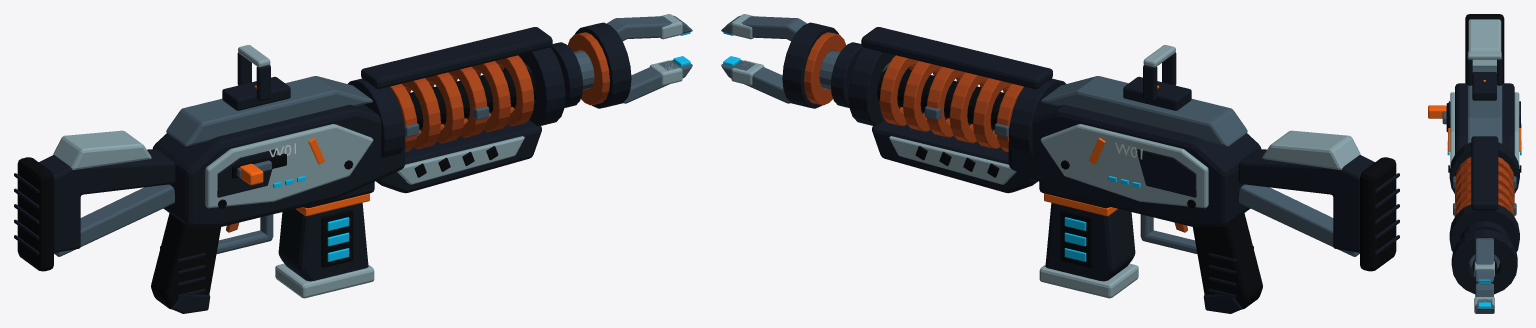
Rendered from W01_arc_rifle_redesign.fbx.
3 renders of one model, left to right at view 1: azimuth 30°, elevation 25°; view 2: azimuth 150°, elevation 25°; view 3: azimuth 270°, elevation 25°, orthographic. The views are drawn at different scales.
Visible parts, largest first — view 1: W01_mesh_body, W01_mesh_coil, W01_mesh_mag, W01_mesh_prongU, W01_mesh_prongD, W01_mesh_bolt; view 2: W01_mesh_body, W01_mesh_coil, W01_mesh_mag, W01_mesh_prongU, W01_mesh_prongD; view 3: W01_mesh_body, W01_mesh_coil, W01_mesh_prongU, W01_mesh_prongD, W01_mesh_bolt.
Part boxes in pixels (box(x1,y1,x2,y2)): W01_mesh_body: box(14, 22, 631, 313); W01_mesh_coil: box(390, 55, 534, 152); W01_mesh_mag: box(275, 193, 374, 298); W01_mesh_prongU: box(607, 14, 692, 40); W01_mesh_prongD: box(623, 56, 692, 103); W01_mesh_bolt: box(237, 160, 271, 185); W01_mesh_body: box(782, 22, 1399, 313); W01_mesh_coil: box(879, 55, 1023, 152); W01_mesh_mag: box(1039, 193, 1138, 298); W01_mesh_prongU: box(721, 14, 806, 40); W01_mesh_prongD: box(721, 56, 790, 103); W01_mesh_body: box(1446, 14, 1521, 294); W01_mesh_coil: box(1453, 157, 1516, 216); W01_mesh_prongU: box(1474, 238, 1494, 284); W01_mesh_prongD: box(1474, 283, 1494, 313); W01_mesh_bolt: box(1428, 105, 1446, 124).
Bounding box in the file's own units: 582 × 206 × 91.05.
Materials: 8 (8 with a texture image).
